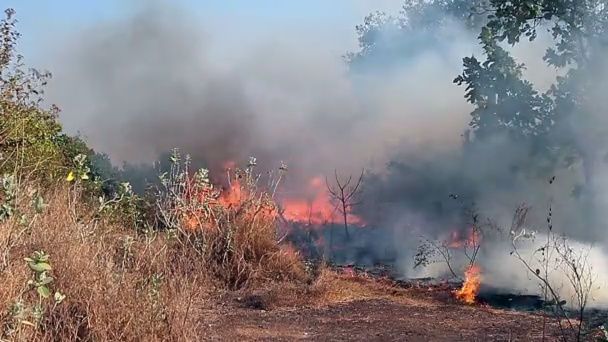fire: (461, 267, 481, 302), (67, 171, 75, 179)
